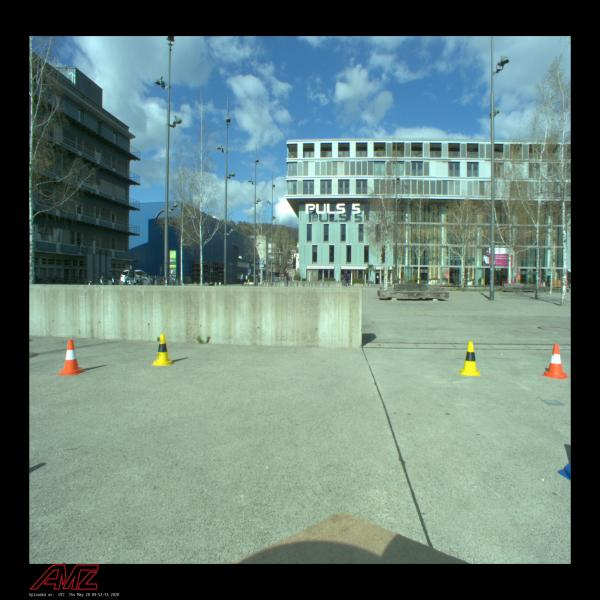orange_cone: (540, 343, 570, 379), (58, 339, 86, 375)
yellow_cone: (460, 341, 481, 376), (152, 334, 173, 366)
